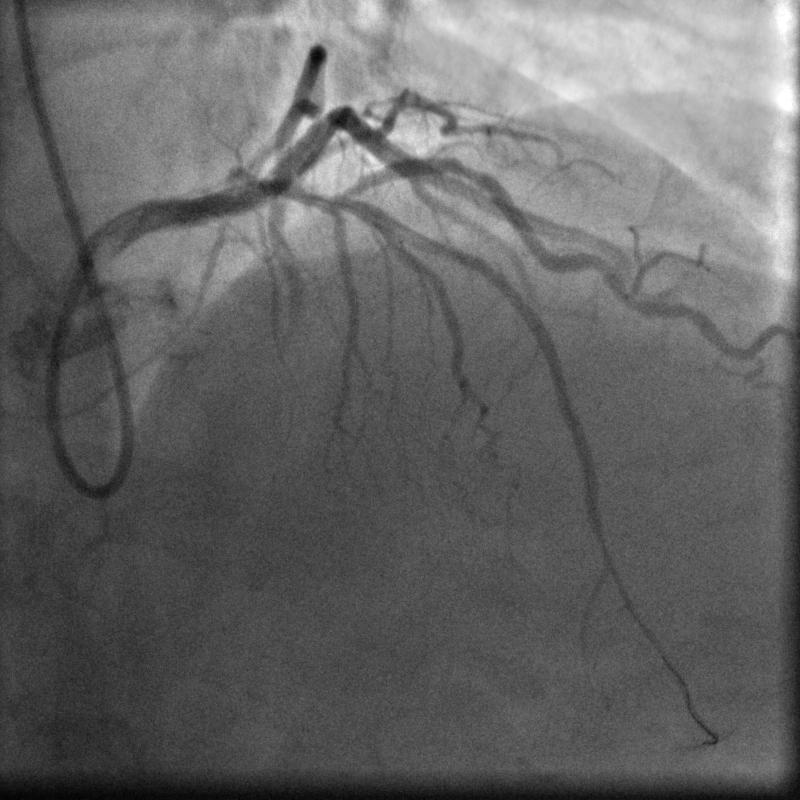Stenosis: (446, 153, 490, 186)
